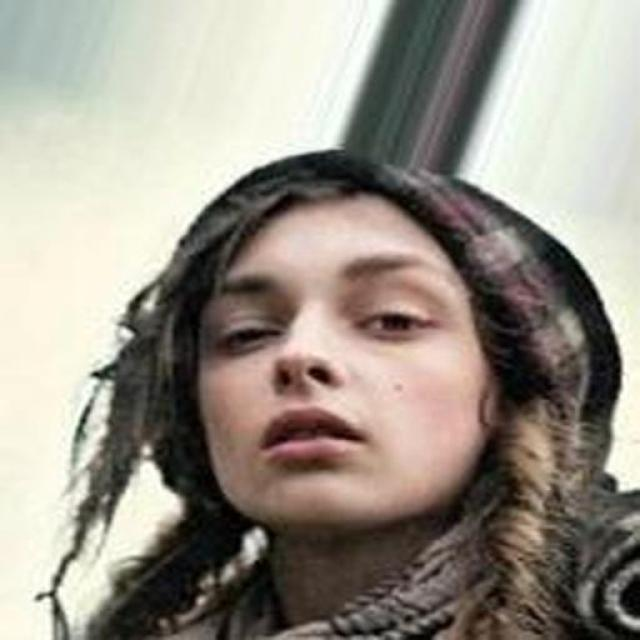bareface: (159, 150, 612, 530)
